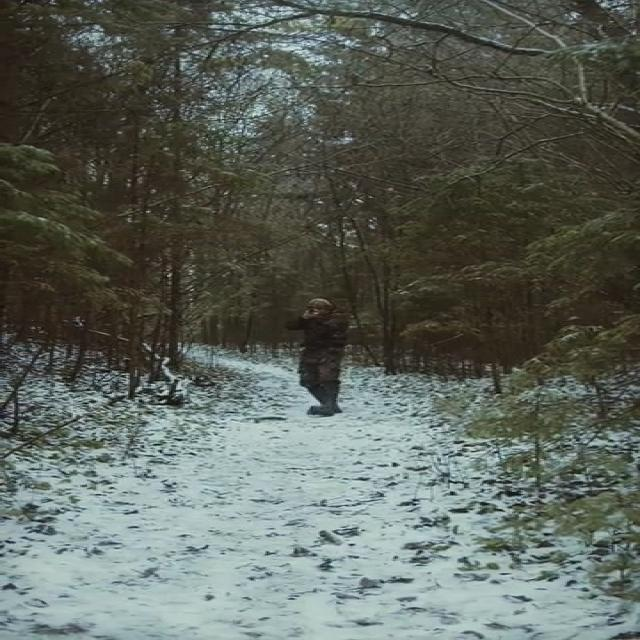Gun_Holder: (304, 308, 327, 316)
Person: (281, 292, 356, 416)
